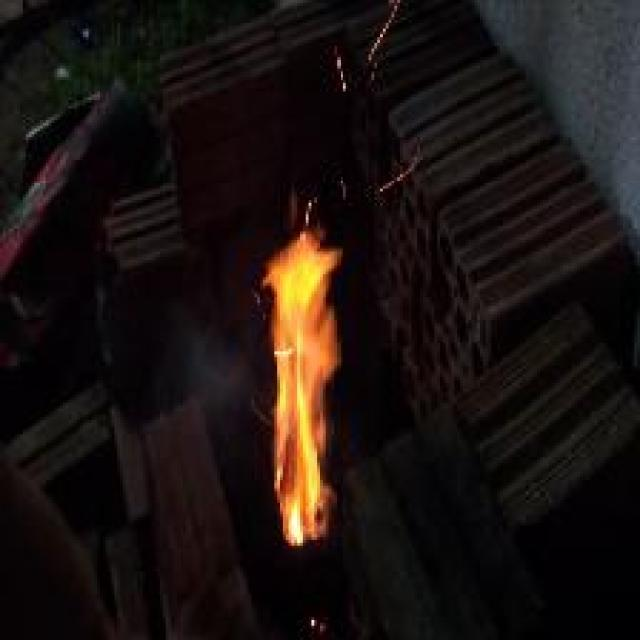Fire: (256, 198, 341, 544)
